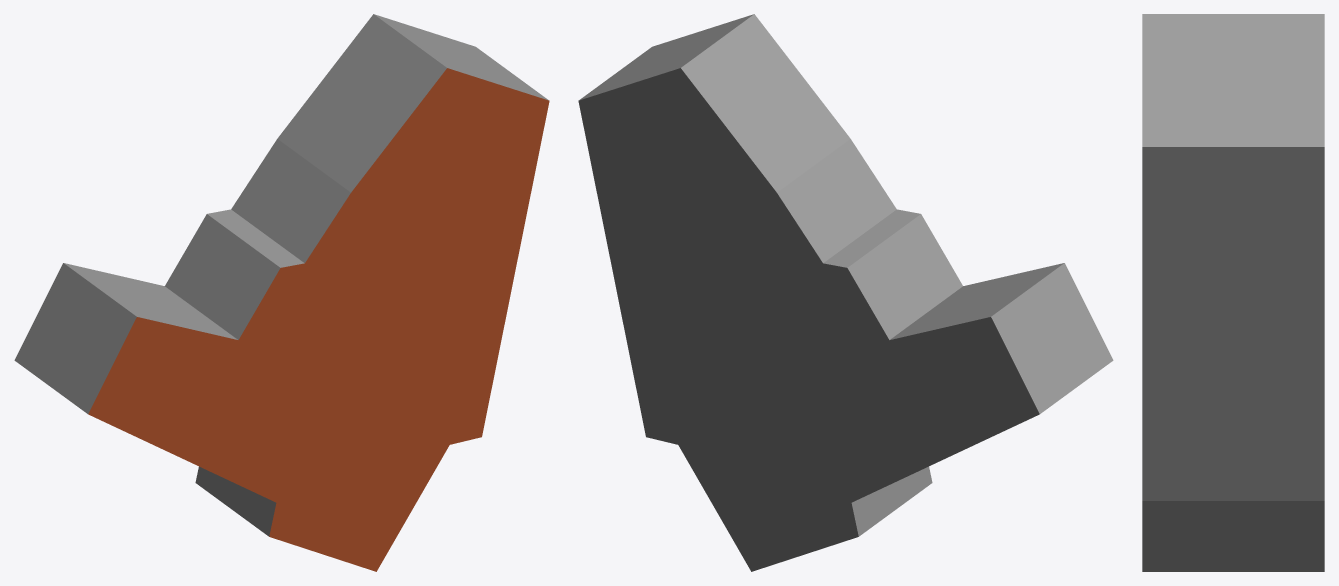
File: construction_6075_assumed_A_Casa_h6m.obj
3 renders of one model, left to right at view 1: azimuth 30°, elevation 25°; view 2: azimuth 150°, elevation 25°; view 3: azimuth 270°, elevation 25°, orthographic. The views are drawn at different scales.
Parts seen in each view (by area): view 1: construction_6075_assumed_A_Casa; view 2: construction_6075_assumed_A_Casa; view 3: construction_6075_assumed_A_Casa.
Part boxes in pixels (left/top/right/bottom): construction_6075_assumed_A_Casa: left=14, top=14, right=549, bottom=571; construction_6075_assumed_A_Casa: left=578, top=14, right=1113, bottom=571; construction_6075_assumed_A_Casa: left=1142, top=14, right=1324, bottom=571.
Size of the model in its own units: 21.67 by 21.84 by 6.
